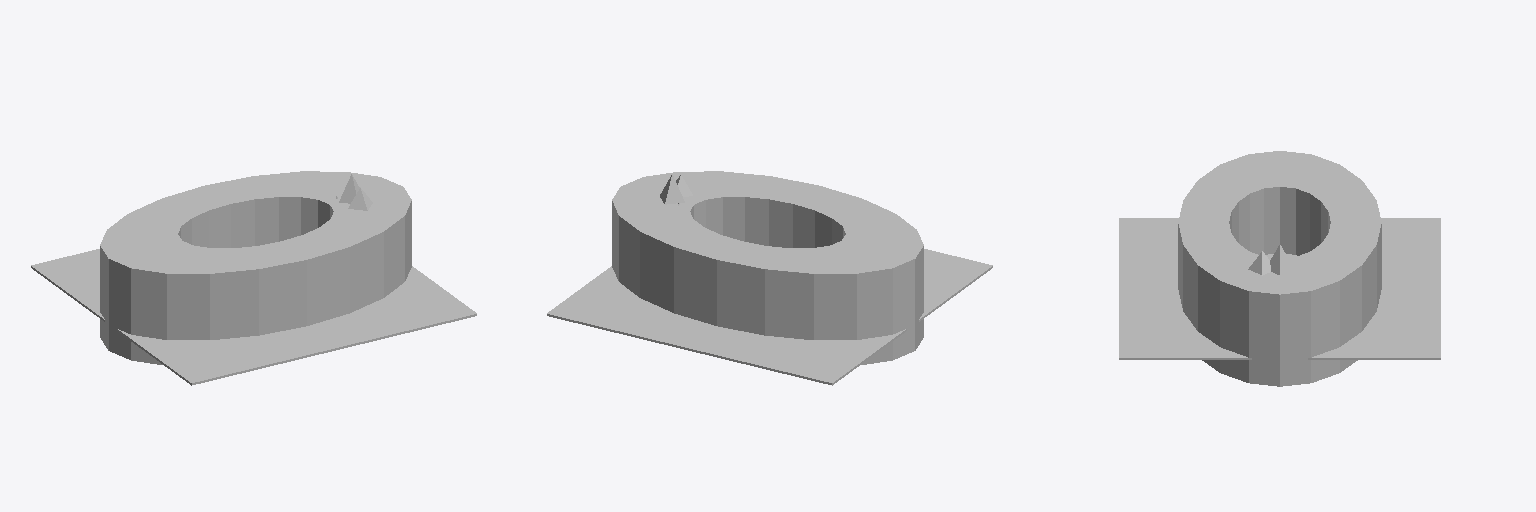
Rendered from landscape_test1.obj.
3 views of the same model, side by side, from view 1: azimuth 30°, elevation 25°; view 2: azimuth 150°, elevation 25°; view 3: azimuth 270°, elevation 25° (orthographic).
Size of the model in its own units: 137 by 52.46 by 130.